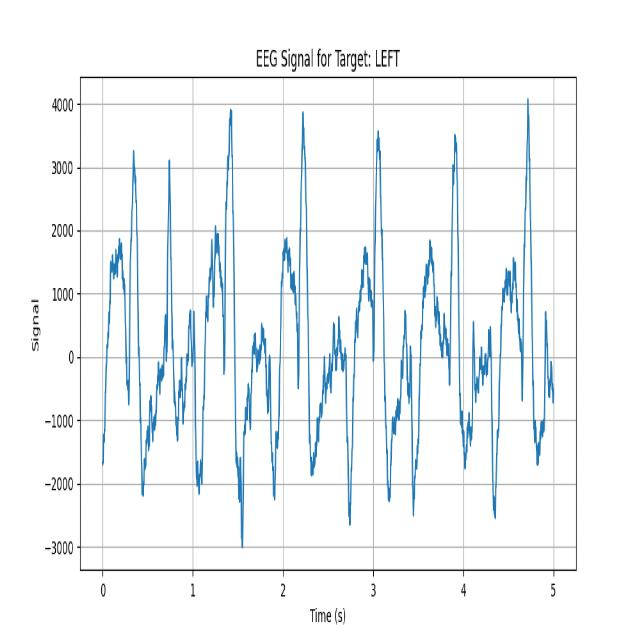LEFT: (323, 100, 404, 526), (477, 89, 555, 521), (404, 96, 480, 527), (258, 106, 325, 531), (210, 105, 260, 554), (95, 138, 155, 493), (154, 136, 211, 500)
